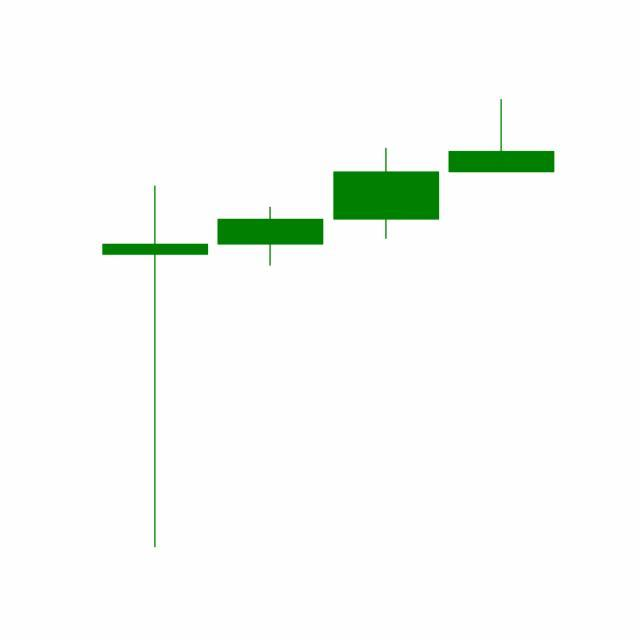Marubozu: (329, 147, 445, 242)
